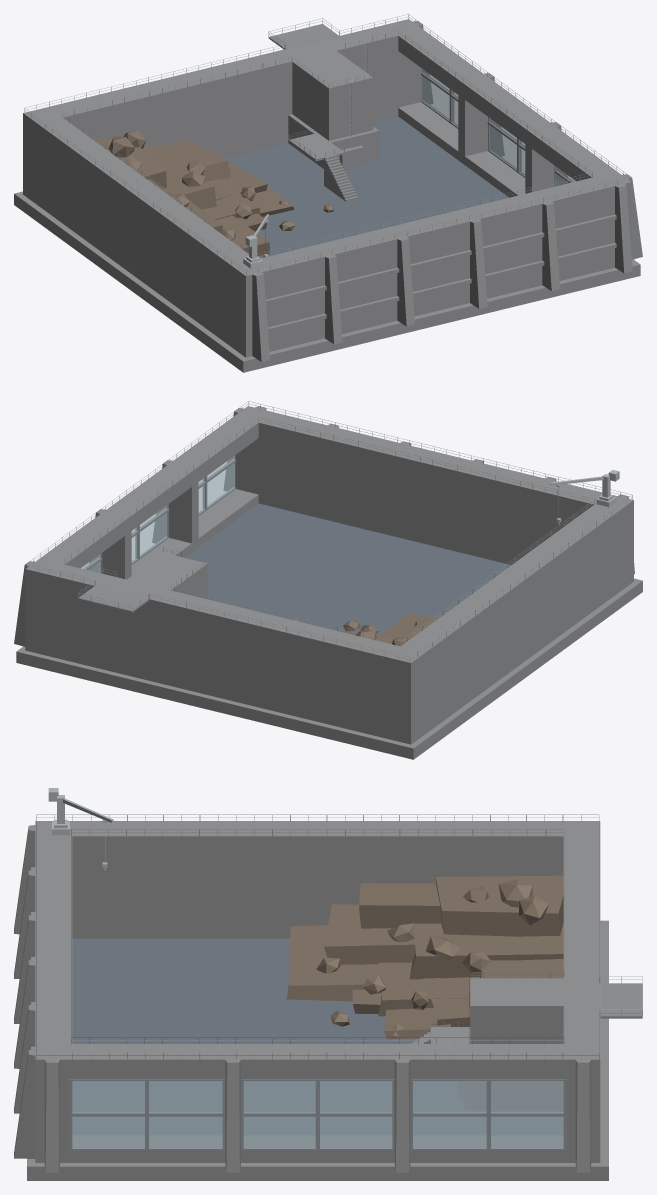
Rendered from dinosaur_paddock_100x100.glb.
3 views of the same model, one above another, from view 1: azimuth 30°, elevation 25°; view 2: azimuth 150°, elevation 25°; view 3: azimuth 270°, elevation 25° (orthographic). The views are drawn at different scales.
Visible parts, largest first — view 1: Main_Perimeter_Walls, Pit_Floor, Exterior_Buttresses, Interior_Access_Tower, Foundation_Plinth, Quarry_Rock_Terraces, Catwalk_Railings, Observation_Glass_Panels, Window_Steel_Mullions, Entrance_Grating_Floor, Feeding_Jib_Crane, Tower_Railings_and_Ladders; view 2: Main_Perimeter_Walls, Pit_Floor, Foundation_Plinth, Catwalk_Railings, Interior_Access_Tower, Observation_Glass_Panels, Exterior_Buttresses, Window_Steel_Mullions, Quarry_Rock_Terraces, Entrance_Grating_Floor, Feeding_Jib_Crane; view 3: Main_Perimeter_Walls, Pit_Floor, Quarry_Rock_Terraces, Observation_Glass_Panels, Exterior_Buttresses, Foundation_Plinth, Interior_Access_Tower, Window_Steel_Mullions, Catwalk_Railings, Entrance_Grating_Floor, Feeding_Jib_Crane, Boulder_Corner_1 (+1 smaller).
Boxes of the visible parts, left/top/right/bottom form: Main_Perimeter_Walls: left=23, top=19, right=631, bottom=357; Pit_Floor: left=225, top=116, right=508, bottom=258; Exterior_Buttresses: left=252, top=21, right=642, bottom=361; Interior_Access_Tower: left=288, top=51, right=379, bottom=201; Foundation_Plinth: left=14, top=191, right=640, bottom=372; Quarry_Rock_Terraces: left=94, top=135, right=294, bottom=256; Catwalk_Railings: left=24, top=14, right=630, bottom=275; Observation_Glass_Panels: left=422, top=68, right=575, bottom=185; Window_Steel_Mullions: left=421, top=72, right=572, bottom=186; Entrance_Grating_Floor: left=270, top=24, right=337, bottom=48; Feeding_Jib_Crane: left=243, top=214, right=269, bottom=268; Tower_Railings_and_Ladders: left=288, top=44, right=373, bottom=179; Main_Perimeter_Walls: left=25, top=406, right=633, bottom=744; Pit_Floor: left=184, top=503, right=511, bottom=633; Foundation_Plinth: left=16, top=578, right=642, bottom=759; Catwalk_Railings: left=26, top=401, right=632, bottom=662; Interior_Access_Tower: left=127, top=552, right=207, bottom=599; Observation_Glass_Panels: left=81, top=455, right=234, bottom=572; Exterior_Buttresses: left=14, top=406, right=634, bottom=646; Window_Steel_Mullions: left=84, top=459, right=235, bottom=573; Quarry_Rock_Terraces: left=345, top=613, right=444, bottom=642; Entrance_Grating_Floor: left=79, top=586, right=147, bottom=610; Feeding_Jib_Crane: left=550, top=470, right=619, bottom=524; Main_Perimeter_Walls: left=35, top=821, right=600, bottom=1162; Pit_Floor: left=72, top=938, right=563, bottom=1134; Quarry_Rock_Terraces: left=286, top=875, right=563, bottom=1039; Observation_Glass_Panels: left=72, top=1081, right=563, bottom=1147; Exterior_Buttresses: left=14, top=825, right=591, bottom=1172; Foundation_Plinth: left=27, top=920, right=608, bottom=1180; Interior_Access_Tower: left=410, top=978, right=563, bottom=1110; Window_Steel_Mullions: left=69, top=1079, right=566, bottom=1150; Catwalk_Railings: left=36, top=814, right=642, bottom=1059; Entrance_Grating_Floor: left=601, top=983, right=641, bottom=1016; Feeding_Jib_Crane: left=48, top=788, right=113, bottom=870; Boulder_Corner_1: left=498, top=879, right=532, bottom=907.
Size of the model in its own units: 106 by 30.5 by 111.
